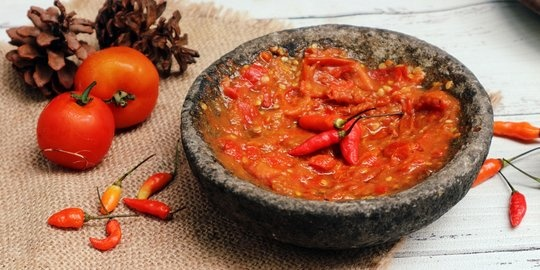sambal: (218, 47, 455, 198)
